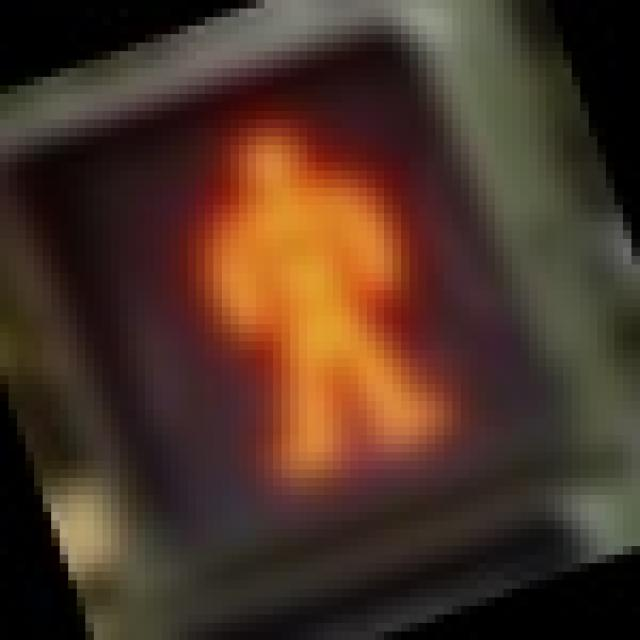red_light: (119, 68, 495, 546)
